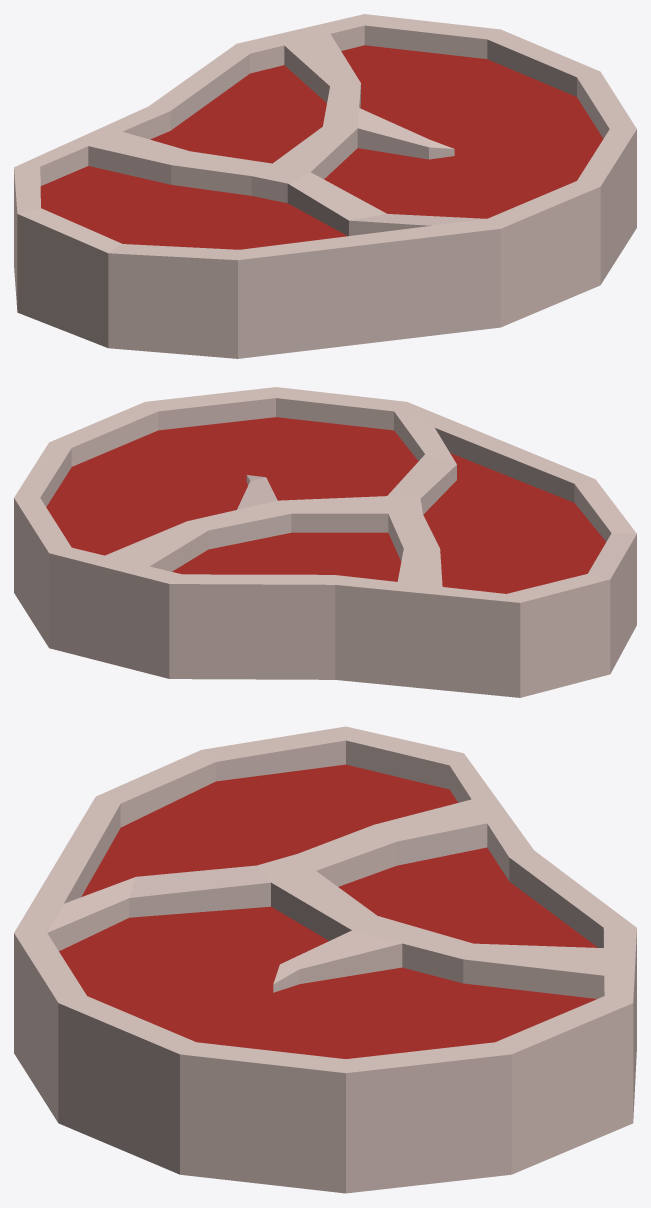
The model's file is meat.fbx.
3 renders of one model, top to bottom at view 1: azimuth 30°, elevation 25°; view 2: azimuth 150°, elevation 25°; view 3: azimuth 270°, elevation 25°, orthographic. The views are drawn at different scales.
Parts seen in each view (by area): view 1: meat; view 2: meat; view 3: meat.
Boxes of the visible parts, x1=… form: meat: x1=14, y1=14, x2=636, y2=358; meat: x1=14, y1=387, x2=636, y2=697; meat: x1=14, y1=726, x2=636, y2=1193.
Size of the model in its own units: 61.8 by 10 by 46.93.
